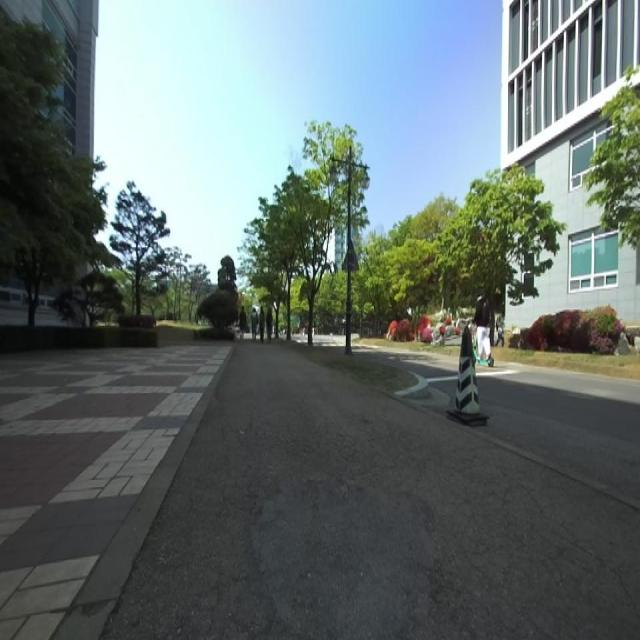sidewalk: (103, 341, 640, 639)
